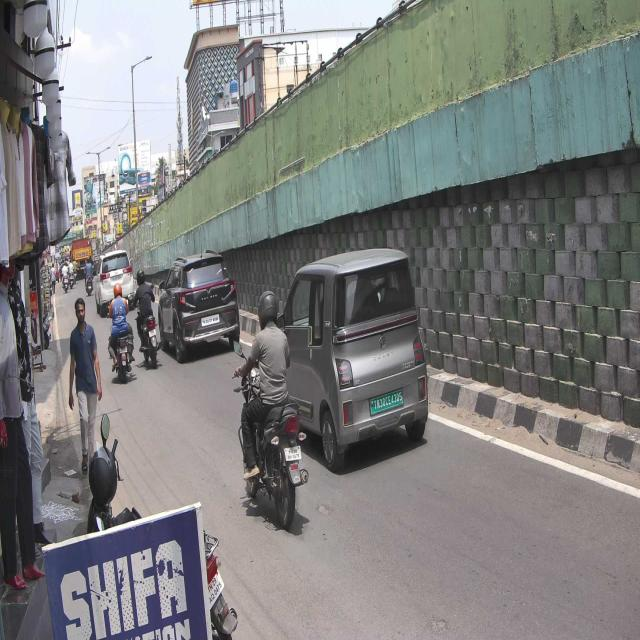single_rider: (234, 291, 310, 526)
